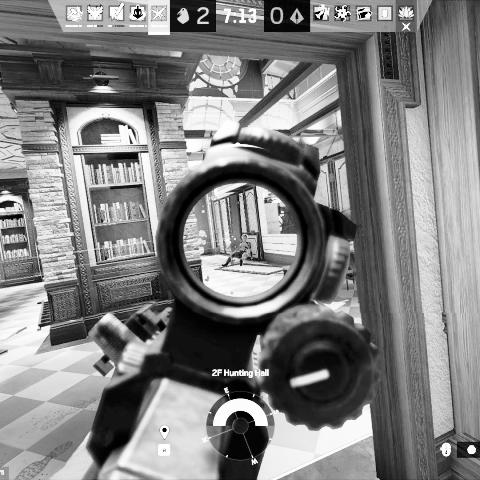Character: (221, 231, 254, 268)
Head: (242, 232, 249, 241)
